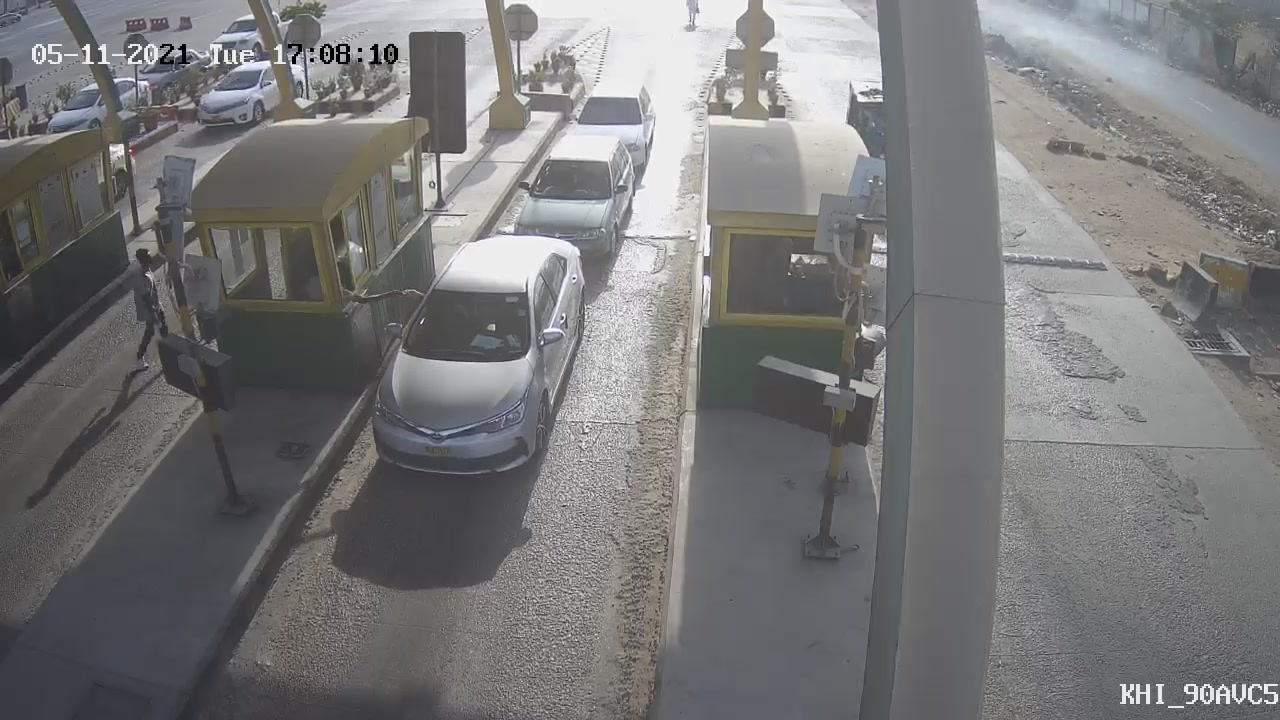F1: (348, 218, 608, 494), (495, 121, 651, 275)
